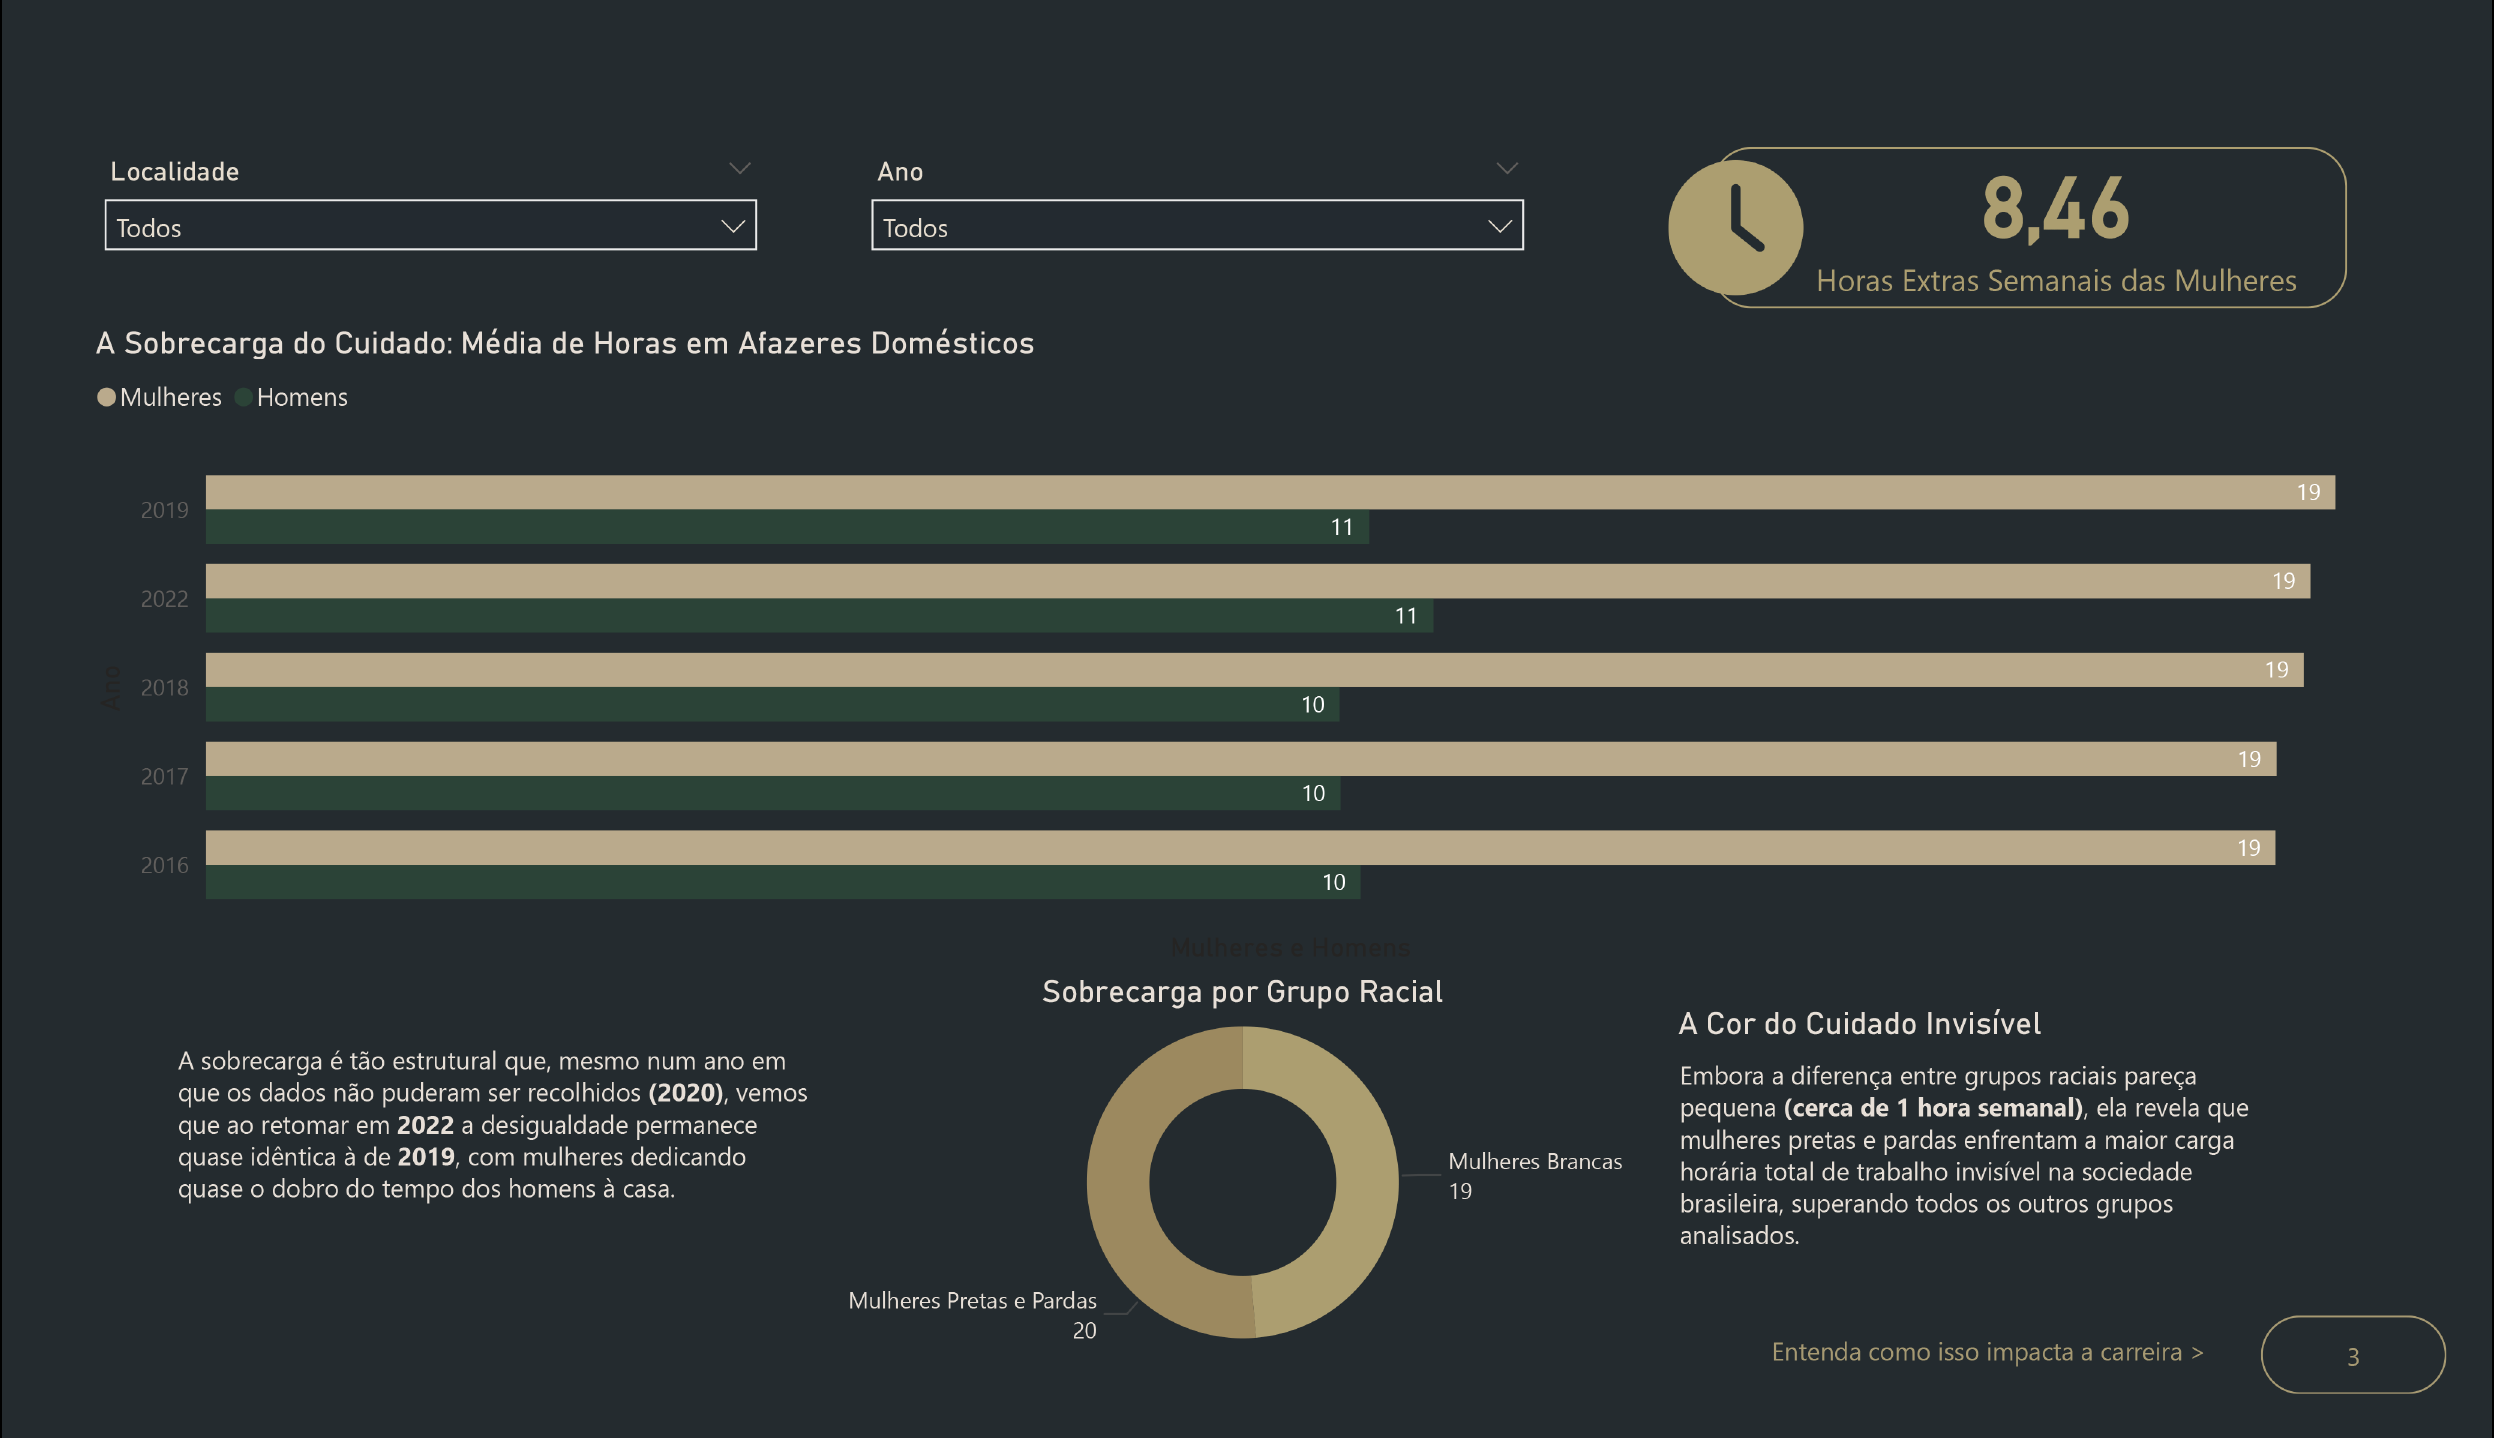

What the dashboard file says about the page in this screenshot:
{"tool":"powerbi","page":{"name":"2","canvas":[1280,720],"ordinal":1},"visuals":[{"type":"shape","box":[887.8,55.3,338.9,85.6],"z":0,"group":"g1"},{"type":"clusteredBarChart","title":"A Sobrecarga do Cuidado: Média de Horas em Afazeres Domésticos","fields":{"Category":["IBGE_Horas_Afazeres_Domesticos_UF.Ano"],"Y":["IBGE_Horas_Afazeres_Domesticos_UF.Media_Horas_Mulheres","IBGE_Horas_Afazeres_Domesticos_UF.Media_Horas_Homens"]},"box":[20.5,149.5,1226.8,344.6],"z":0},{"type":"textbox","box":[65,528.4,350.3,101.6],"z":1000},{"type":"donutChart","fields":{"Y":["Avg(IBGE_Horas_Afazeres_Domesticos_UF.Mulher_Branca)","Avg(IBGE_Horas_Afazeres_Domesticos_UF.Mulher_PretaeParda)"]},"box":[418.5,494.1,438.2,226],"z":2000},{"type":"pageNavigator","box":[1181.2,677.5,98.8,42.5],"z":3000},{"type":"textbox","box":[865,506.7,364,33.1],"z":4000},{"type":"textbox","box":[915,682.5,266.2,32.5],"z":5000},{"type":"textbox","box":[865.8,536.3,338.9,124.4],"z":6000},{"type":"slicer","fields":{"Values":["IBGE_Horas_Afazeres_Domesticos_UF.Localidade"]},"box":[20.9,54.6,368.5,57.9],"z":7000},{"type":"card","fields":{"Values":["IBGE_Horas_Afazeres_Domesticos_UF.Diferença de Horas"]},"box":[935.7,45,272.7,94.7],"z":8000,"group":"g1"},{"type":"slicer","fields":{"Values":["IBGE_Horas_Afazeres_Domesticos_UF.Ano"]},"box":[429.9,54.6,368.5,57.9],"z":8000},{"type":"group","id":"g1","title":"Grupo 2","box":[841,45,385.7,95.9],"z":9000},{"type":"textbox","box":[520.7,489.6,233.9,34.2],"z":10000},{"type":"image","box":[841,62.1,118.7,71.9],"z":11000,"group":"g1"}]}

Visuals, with their boxes in screenshot pixels (x1, y1, x2, y2), scaled from the page's 1280x720 canvas onto the 2494x1438 screenshot:
shape: box(1730, 110, 2390, 281)
"A Sobrecarga do Cuidado: Média de Horas em Afazeres Domésticos" clusteredBarChart: box(40, 299, 2430, 987)
textbox: box(127, 1055, 809, 1258)
donutChart - Avg(IBGE_Horas_Afazeres_Domesticos_UF.Mulher_Branca) x Avg(IBGE_Horas_Afazeres_Domesticos_UF.Mulher_PretaeParda): box(815, 987, 1669, 1437)
pageNavigator: box(2301, 1353, 2493, 1437)
textbox: box(1685, 1012, 2395, 1078)
textbox: box(1783, 1363, 2301, 1428)
textbox: box(1687, 1071, 2347, 1320)
slicer - IBGE_Horas_Afazeres_Domesticos_UF.Localidade: box(41, 109, 759, 225)
card - IBGE_Horas_Afazeres_Domesticos_UF.Diferença de Horas: box(1823, 90, 2354, 279)
slicer - IBGE_Horas_Afazeres_Domesticos_UF.Ano: box(838, 109, 1556, 225)
"Grupo 2" group: box(1639, 90, 2390, 281)
textbox: box(1015, 978, 1470, 1046)
image: box(1639, 124, 1870, 268)
